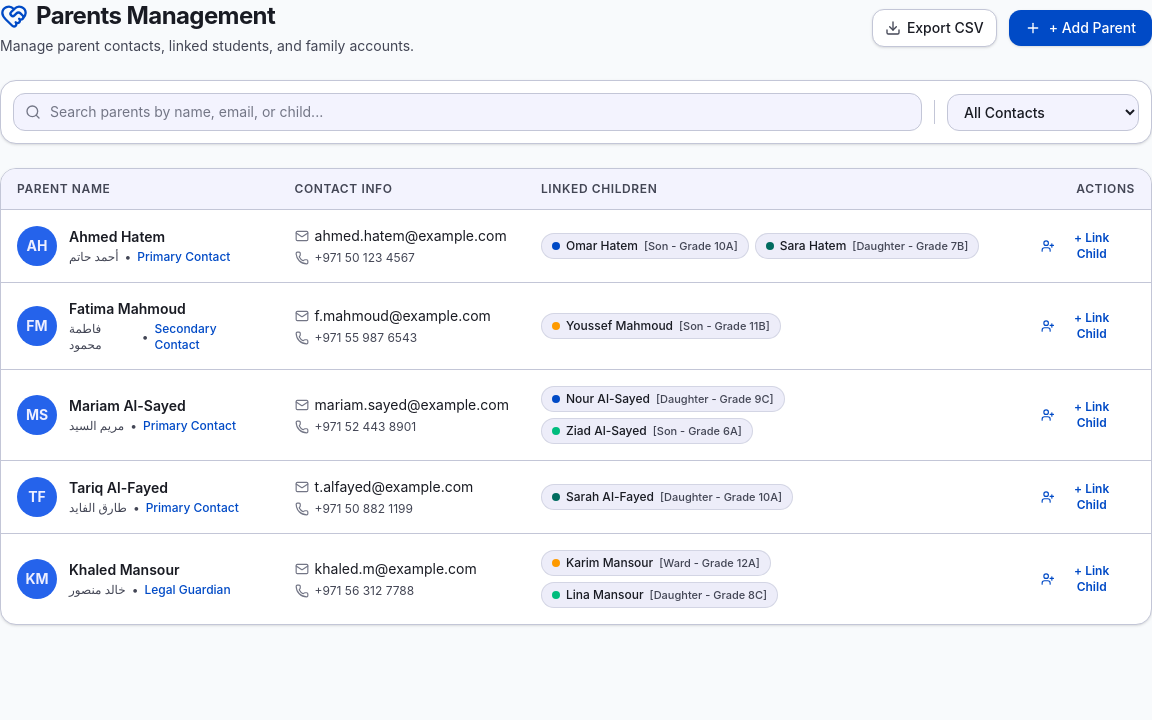
ParentsPage (Parents Directory Stitch Clone) › opens Register Parent drawer and registers a new parent
The width and height of the screenshot is (1152, 720).
Click the button "+ Add Parent" at (1080, 28), box [1009,10,1151,46]
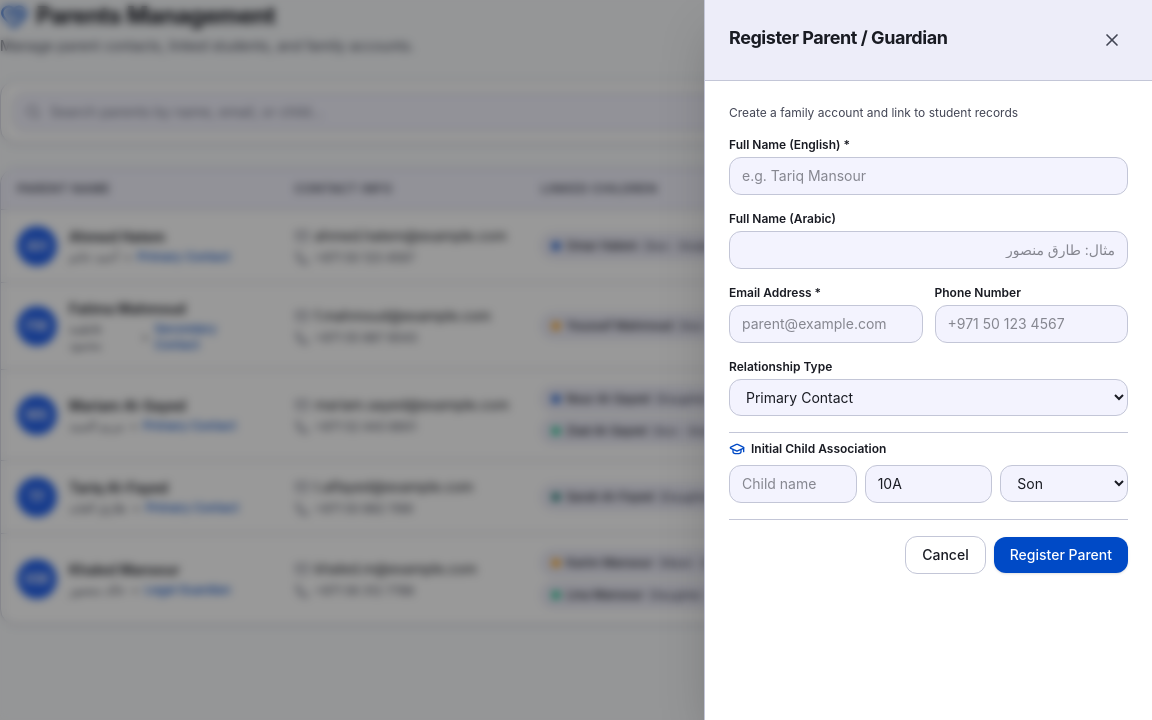
Check: the heading "Register Parent / Guardian" is shown, box [729,24,947,52]
Type "Hossam Radwan" into the field with placeholder "e.g. Tariq Mansour" at (928, 176), box [729,157,1128,195]
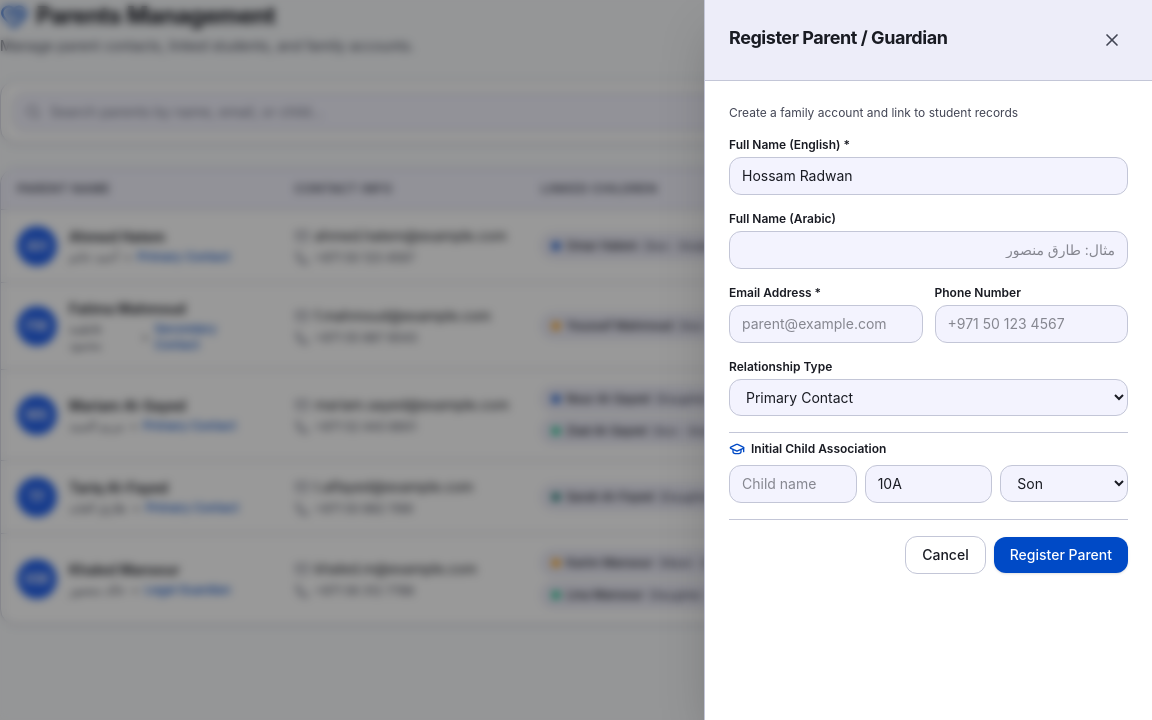
Type "حسام رضوان" into the field with placeholder "مثال: طارق منصور" at (928, 250), box [729,231,1128,269]
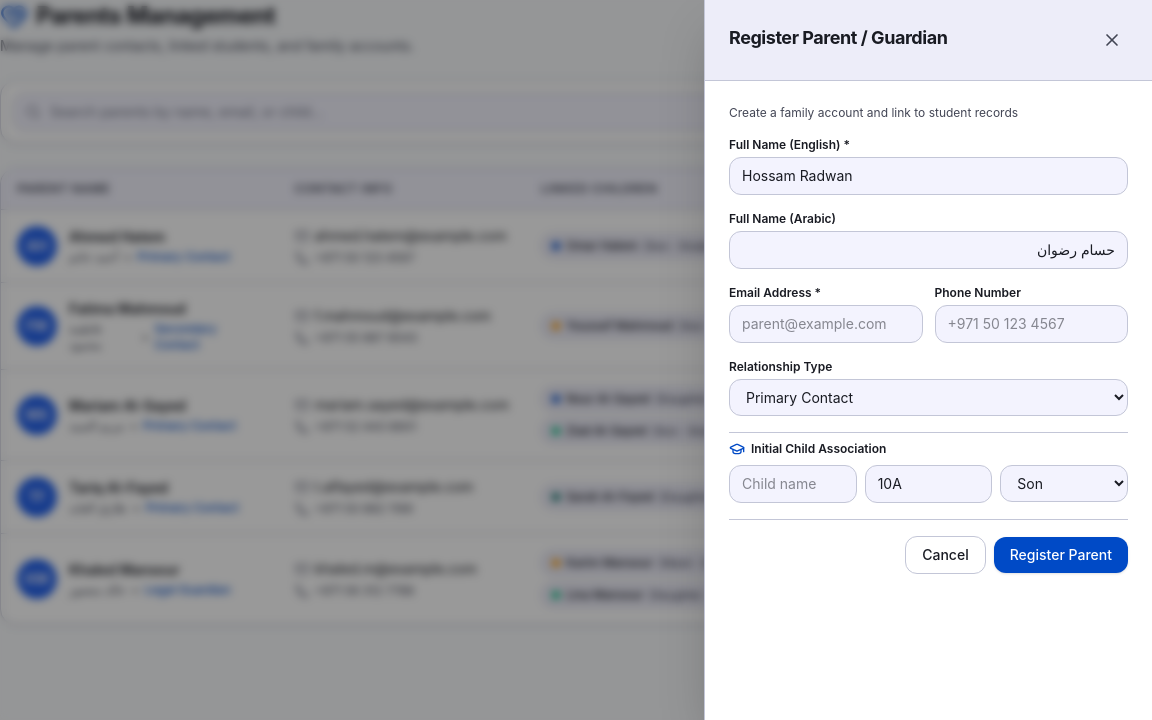
Type "h.radwan@example.com" into the field with placeholder "parent@example.com" at (826, 324), box [729,305,922,343]
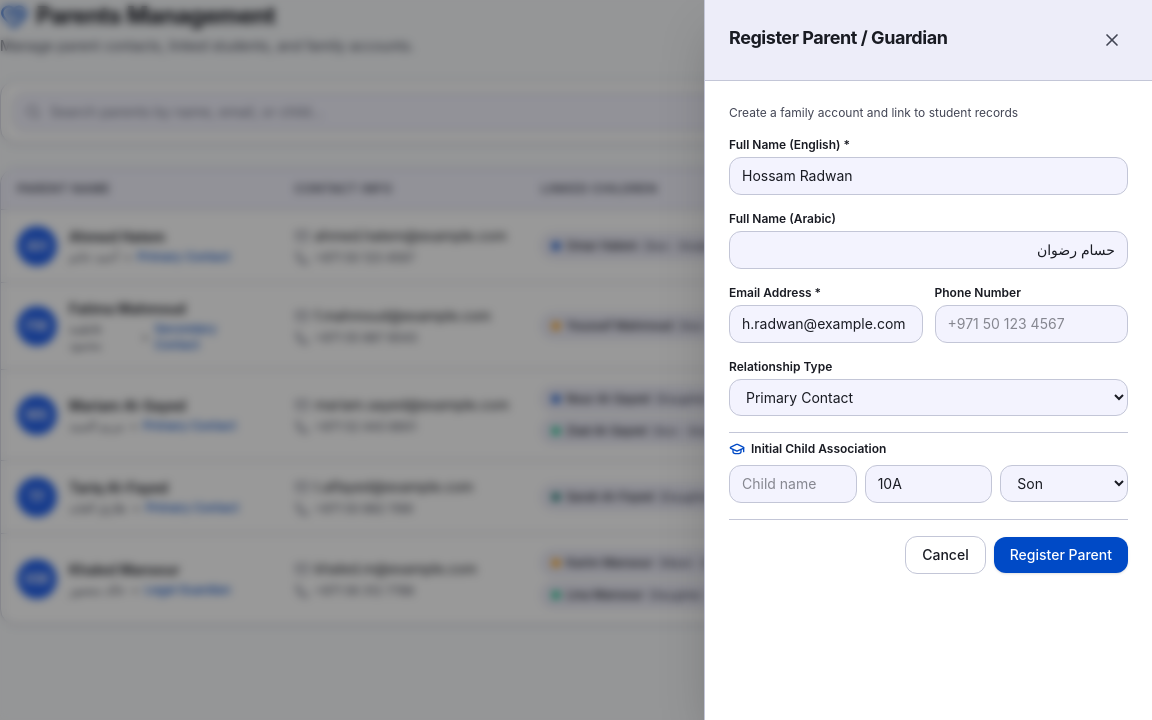
Click the button "Register Parent" at (1061, 555), box [994,537,1128,573]
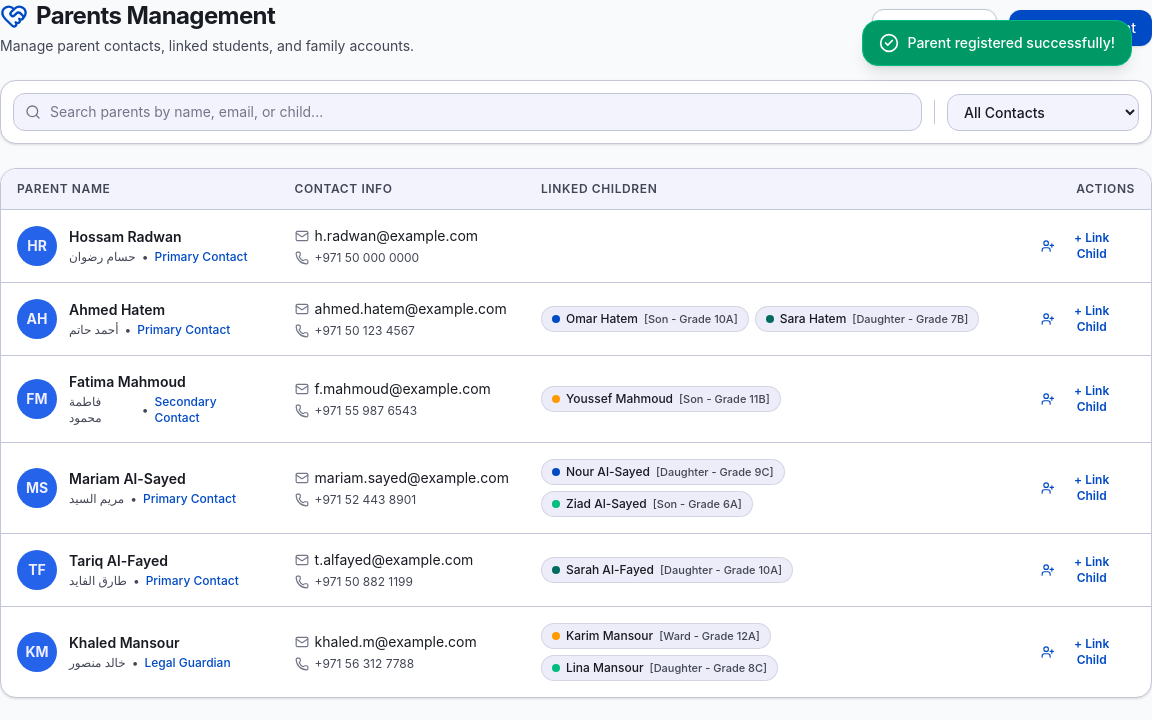
Check: the text "Hossam Radwan" is shown, box [69,228,182,245]
Check: the text "حسام رضوان" is shown, box [69,249,136,265]
